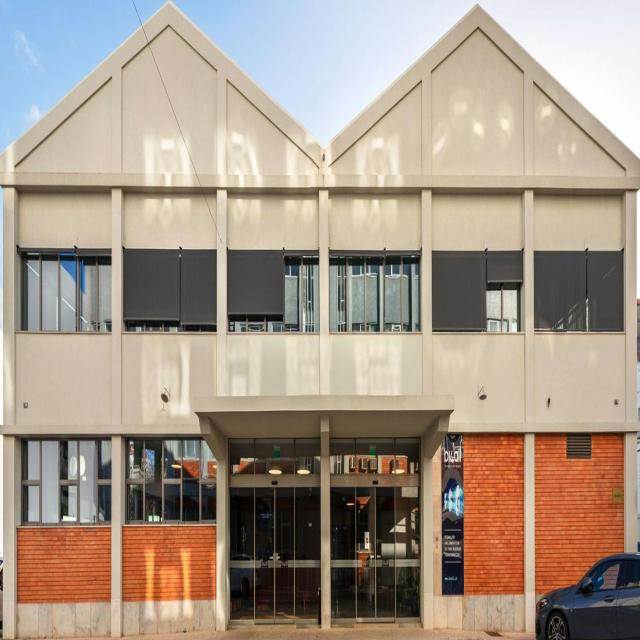door: (227, 434, 321, 627), (330, 434, 423, 626)
wall: (0, 0, 640, 637)
windows: (125, 437, 216, 522), (329, 250, 421, 332), (20, 439, 112, 520), (227, 254, 319, 334), (21, 253, 110, 334), (486, 284, 521, 336)
